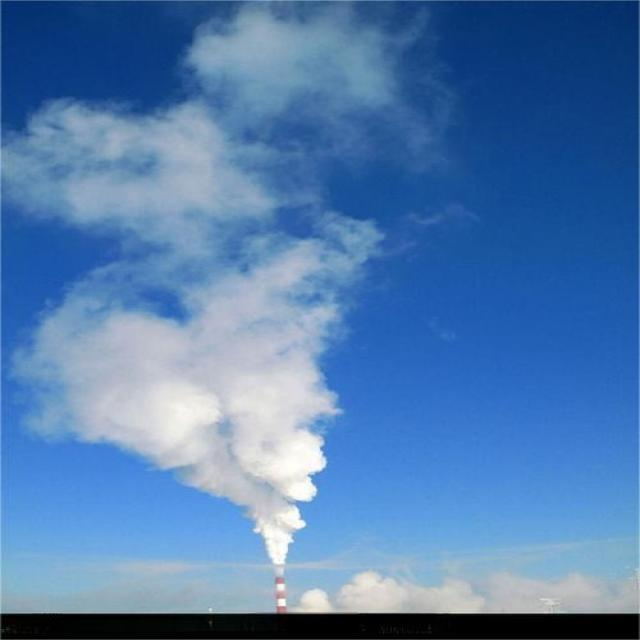Smoke: (7, 3, 443, 565)
